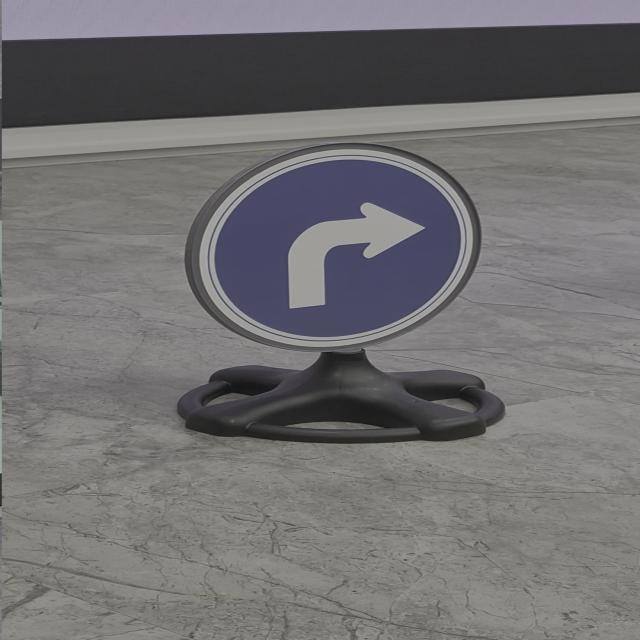right_dierection: (156, 130, 498, 358)
